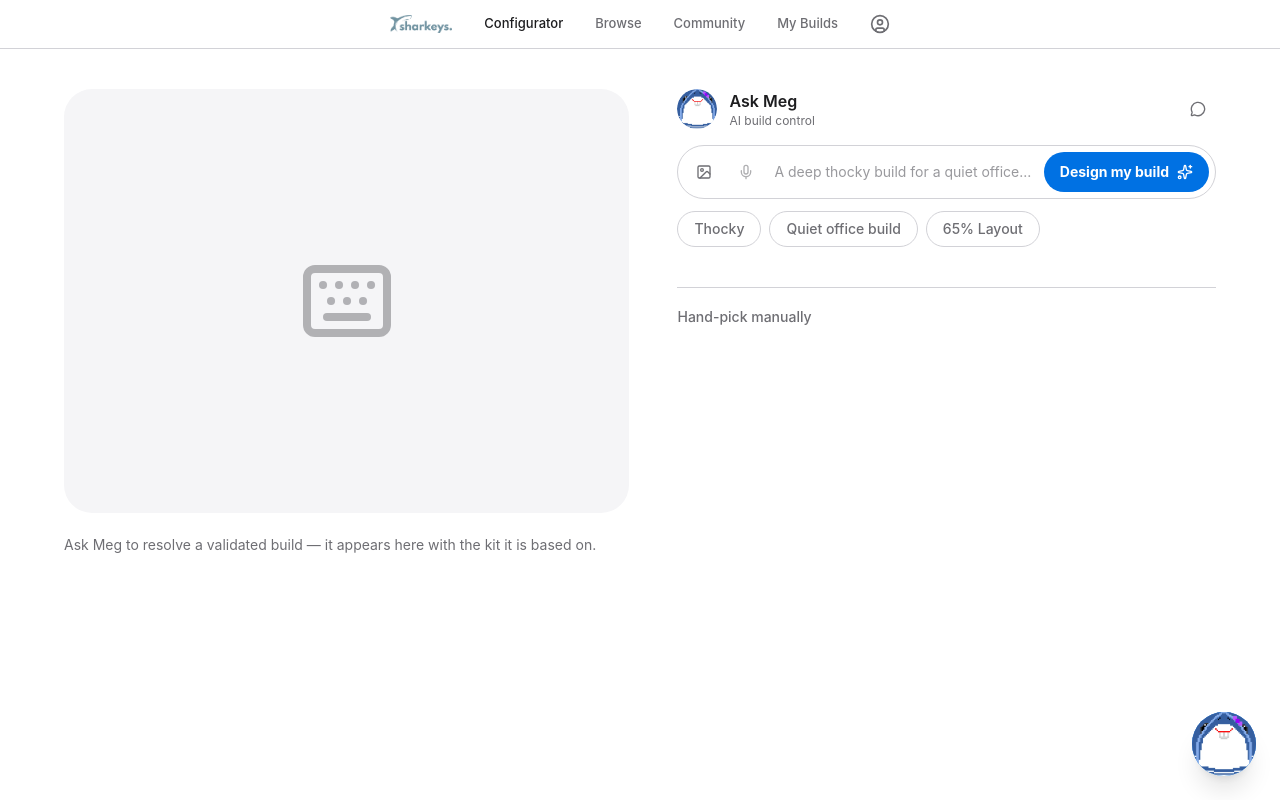
Test: RecommendationDemo › sends recent Keybot messages after a chat turn
Click the button named "Open Meg assistant".
click(1224, 744)  # box [1192,712,1256,776]
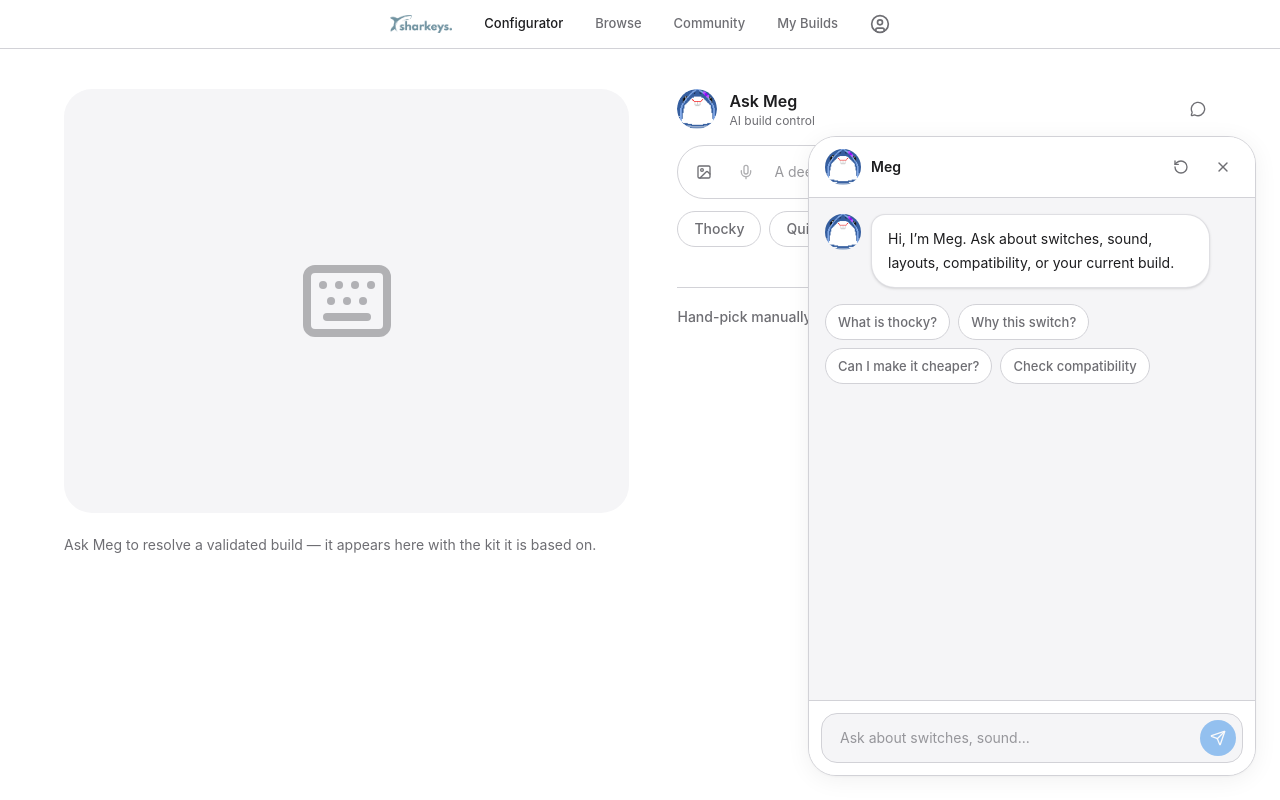
Type "What is thocky?" into the field named "Meg question".
click(1010, 738); type("What is thocky?")  # box [828,720,1192,756]
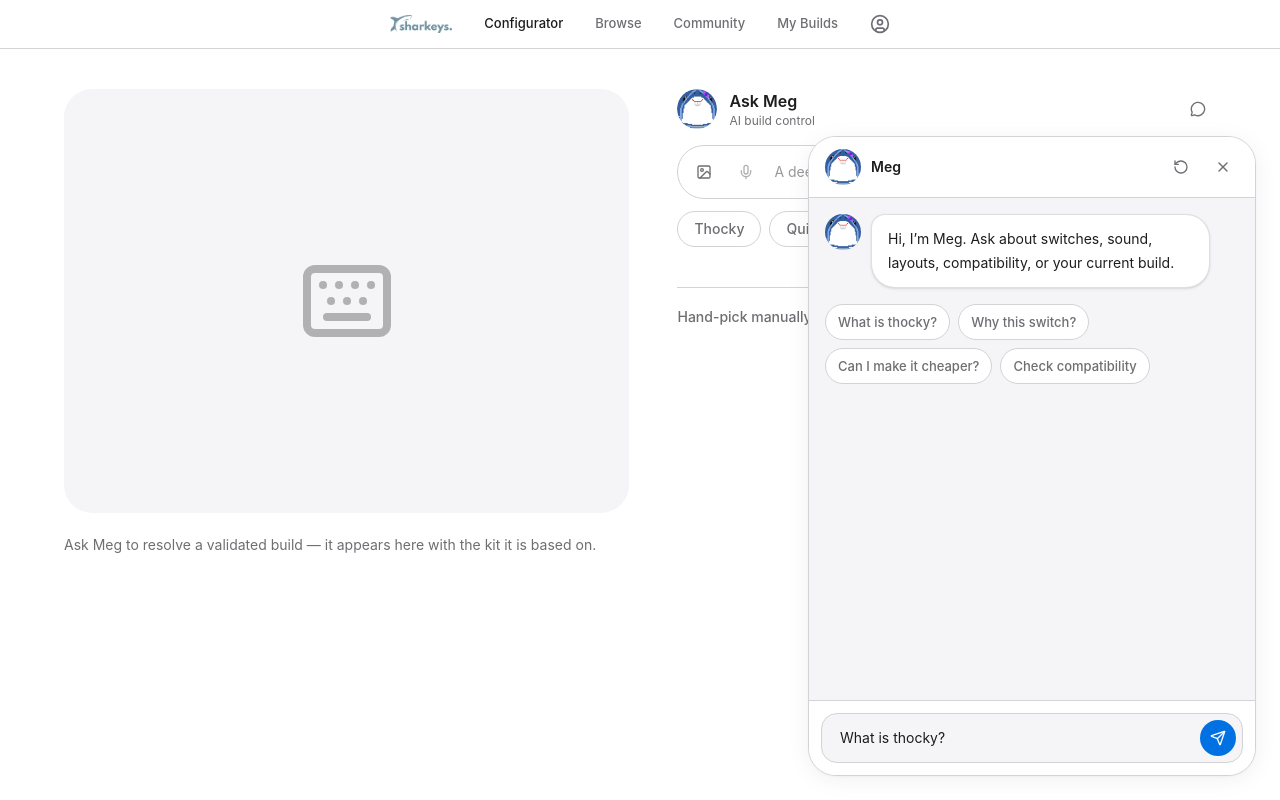
Click the button named "Send Meg question".
click(1218, 738)  # box [1200,720,1236,756]
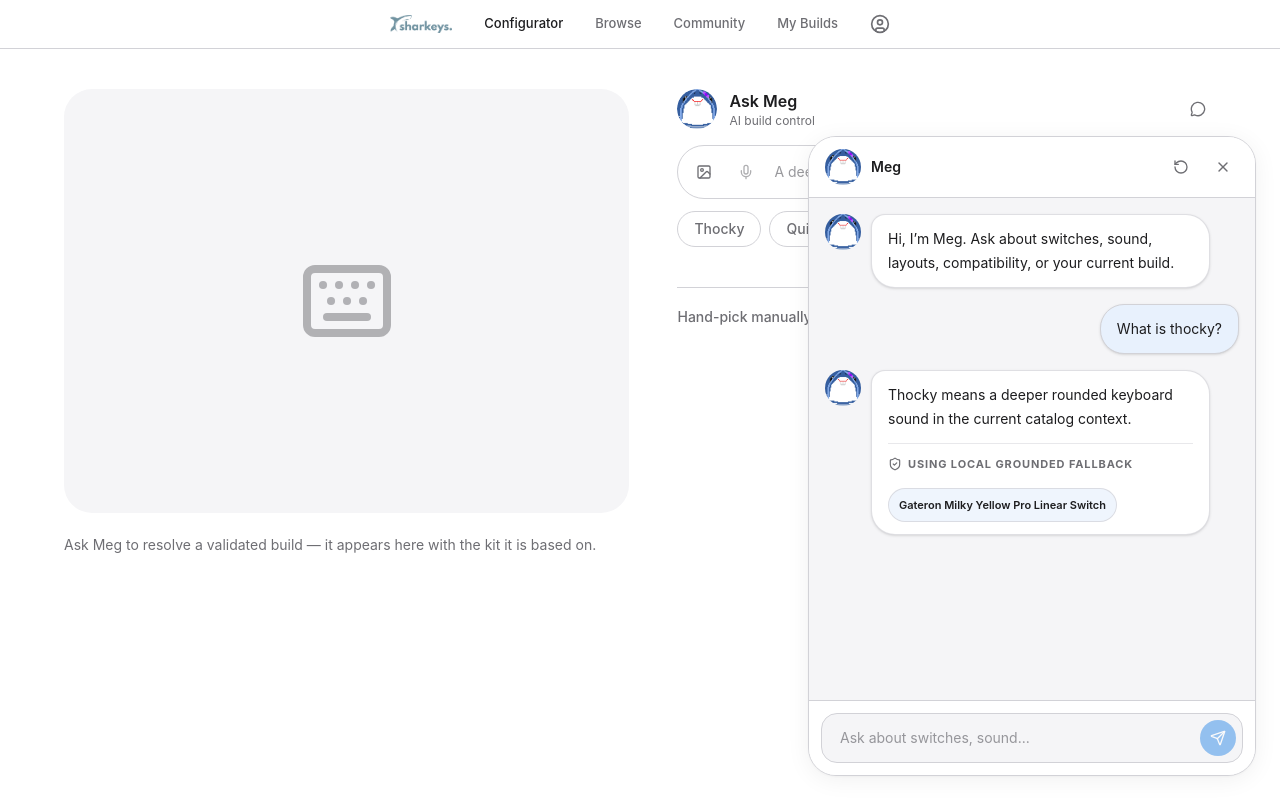
Check: the text "deeper rounded keyboard sound" is shown, box [888,386,1173,427]
Type "why that one?" into the field named "Meg question".
click(1010, 738); type("why that one?")  # box [828,720,1192,756]
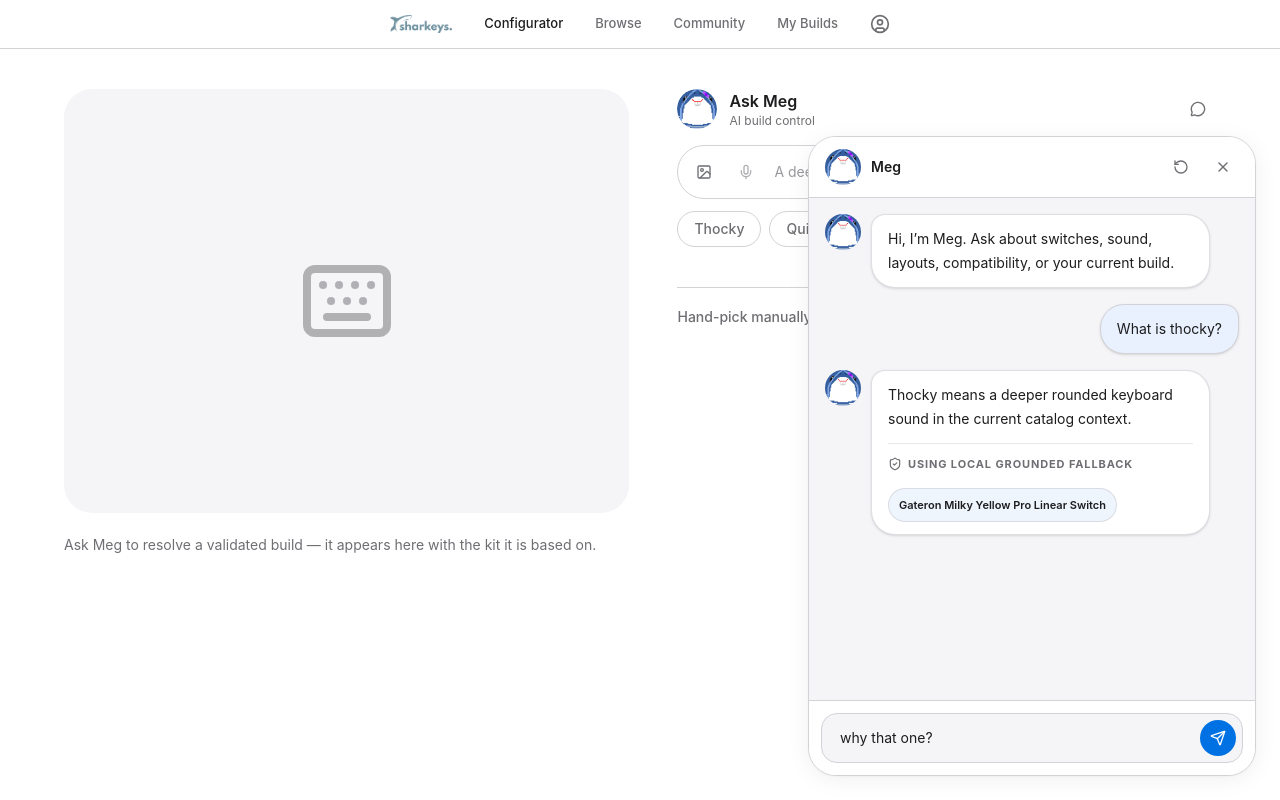
Click the button named "Send Meg question".
click(1218, 738)  # box [1200,720,1236,756]
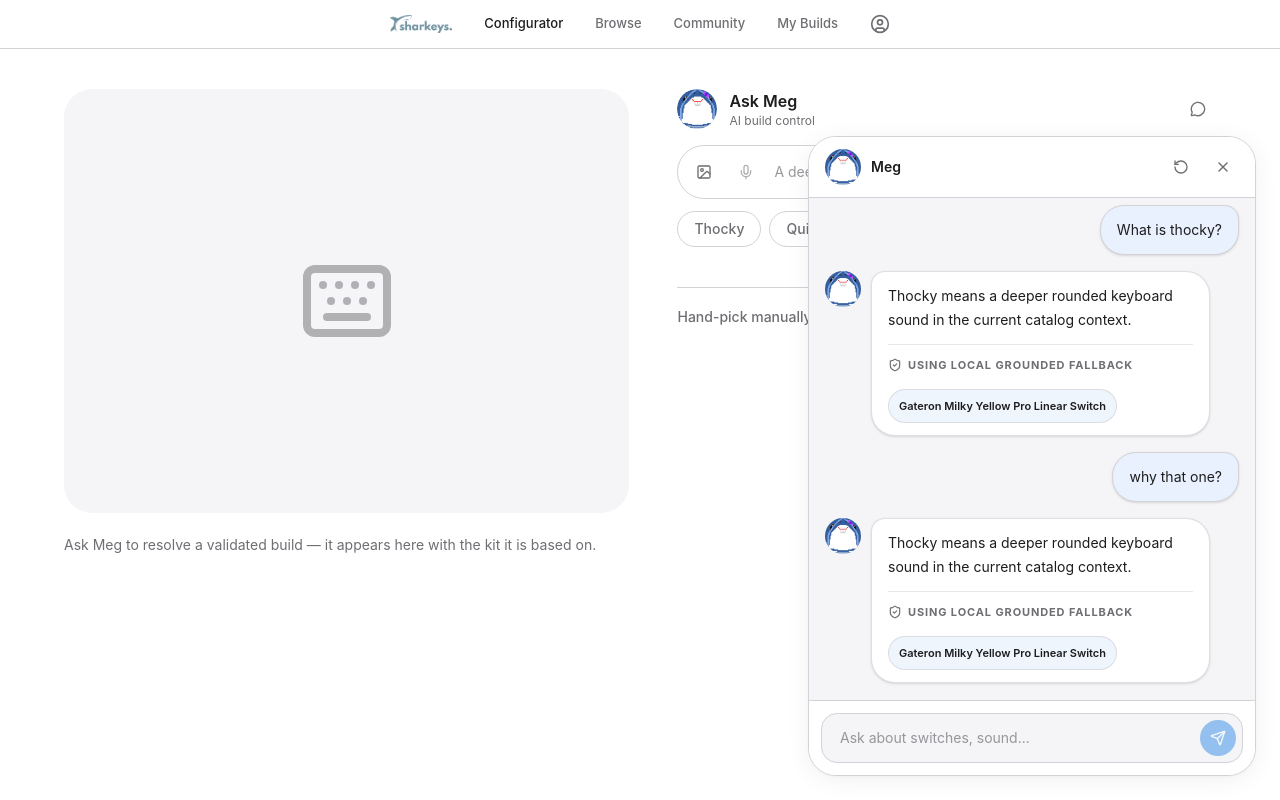
Check: the text "What is thocky?" is shown, box [1117,218,1222,242]
Check: the 1st text "deeper rounded keyboard sound" shows "Thocky means", box [888,287,1173,328]
Check: the text "why that one?" is shown, box [1129,465,1222,489]
